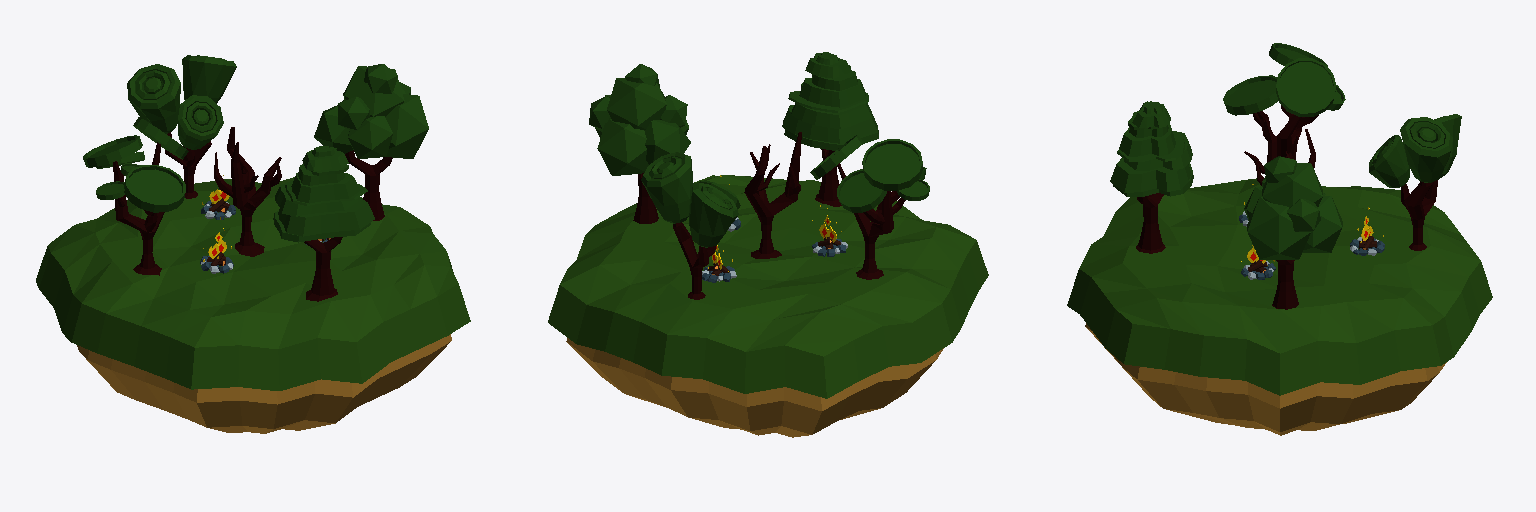
The model's file is trees_3_camps.obj.
The picture shows the model from 3 angles: view 1: azimuth 30°, elevation 25°; view 2: azimuth 150°, elevation 25°; view 3: azimuth 270°, elevation 25°; orthographic projection.
Visible parts, largest first — view 1: trees_Material.013, trees_Material.012, trees_Material.014, trees_Material.011; view 2: trees_Material.013, trees_Material.012, trees_Material.014, trees_Material.011; view 3: trees_Material.013, trees_Material.012, trees_Material.014, trees_Material.011.
Boxes of the visible parts, x1=… form: trees_Material.013: x1=36, y1=177, x2=470, y2=390; trees_Material.012: x1=83, y1=55, x2=428, y2=242; trees_Material.014: x1=77, y1=334, x2=451, y2=433; trees_Material.011: x1=113, y1=127, x2=392, y2=301; trees_Material.013: x1=548, y1=175, x2=988, y2=398; trees_Material.012: x1=589, y1=52, x2=929, y2=247; trees_Material.014: x1=566, y1=338, x2=943, y2=437; trees_Material.011: x1=633, y1=132, x2=905, y2=299; trees_Material.013: x1=1067, y1=178, x2=1492, y2=395; trees_Material.012: x1=1110, y1=43, x2=1461, y2=259; trees_Material.014: x1=1085, y1=323, x2=1446, y2=435; trees_Material.011: x1=1136, y1=105, x2=1437, y2=309.
Bounding box in the file's own units: 37.38 × 31.27 × 37.38.